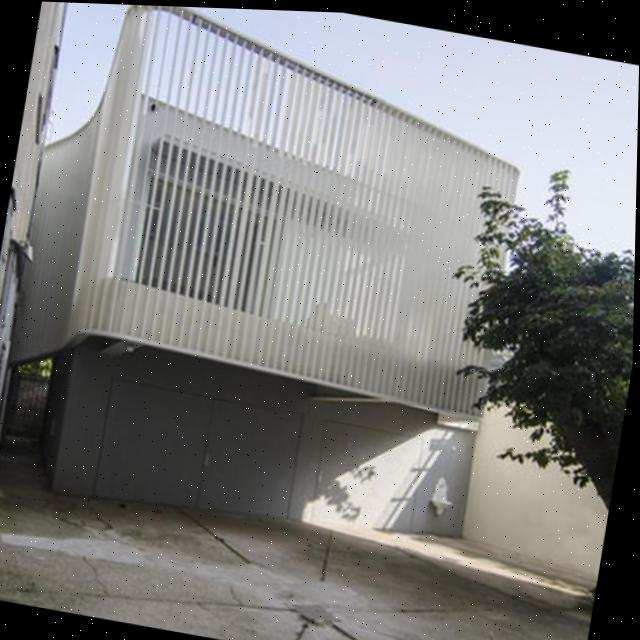building: (0, 0, 544, 569)
